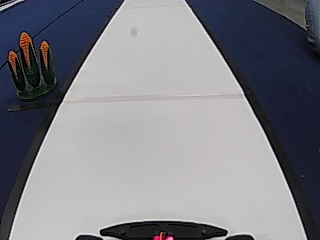corn: (6, 30, 58, 98)
